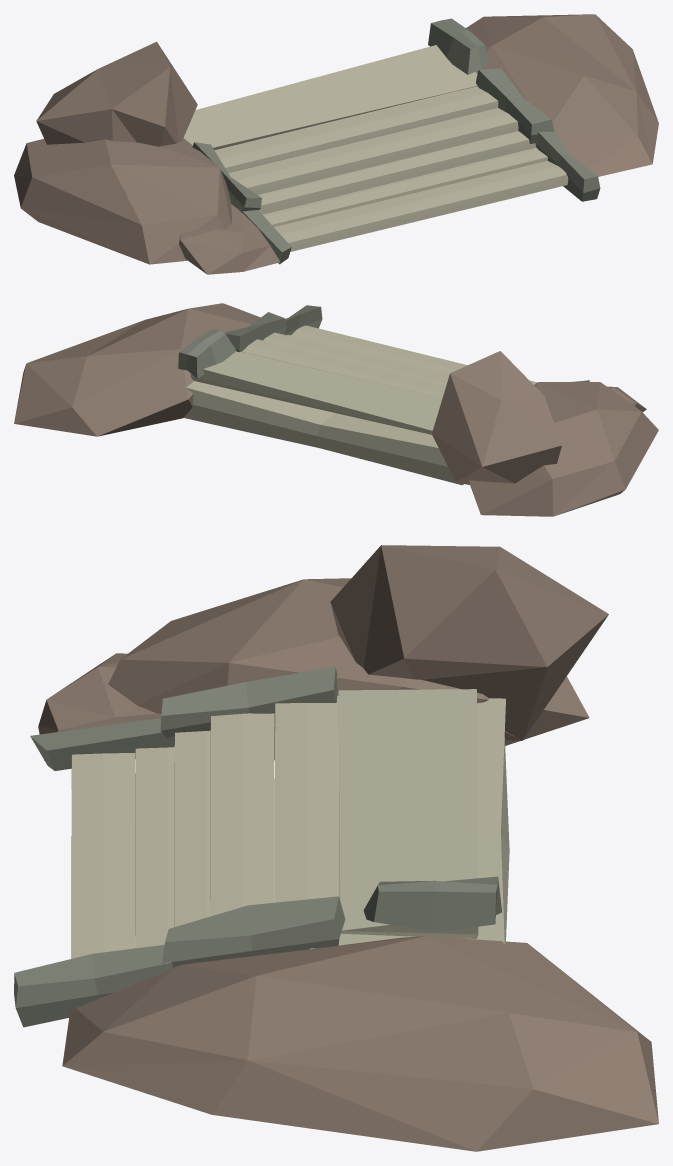
The model's file is stairs_model.fbx.
The picture shows the model from 3 angles, top to bottom: view 1: azimuth 30°, elevation 25°; view 2: azimuth 150°, elevation 25°; view 3: azimuth 270°, elevation 25°; orthographic projection. The views are drawn at different scales.
Parts seen in each view (by area): view 1: rocks, stairs, border; view 2: rocks, stairs, border; view 3: rocks, stairs, border.
Boxes of the visible parts, box(x1,y1,x2,y2) form: rocks: box(14, 14, 658, 274); stairs: box(183, 45, 568, 251); border: box(192, 18, 600, 264); rocks: box(14, 303, 658, 516); stairs: box(183, 325, 537, 485); border: box(178, 305, 589, 383); rocks: box(38, 545, 658, 1151); stairs: box(71, 689, 509, 958); border: box(14, 666, 501, 1027).
Size of the model in its own units: 350 by 69.51 by 184.
